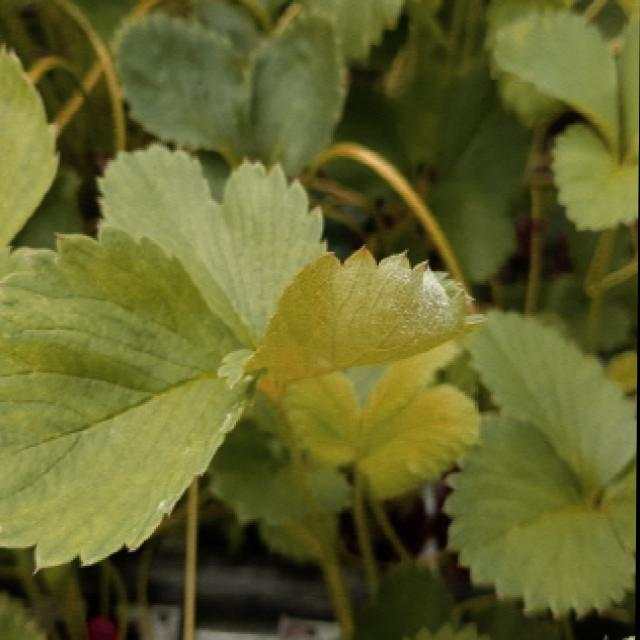Powdery Mildew Leaf: (256, 245, 493, 379)
